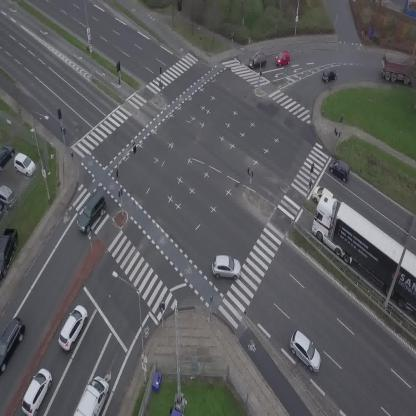car: (283, 329, 329, 375), (54, 303, 93, 353), (17, 366, 56, 416), (70, 191, 113, 236), (0, 315, 30, 374), (211, 255, 242, 280), (326, 155, 354, 182), (310, 182, 335, 203), (319, 66, 339, 84), (247, 53, 268, 70), (274, 50, 291, 67)
lorry: (73, 373, 115, 416)
